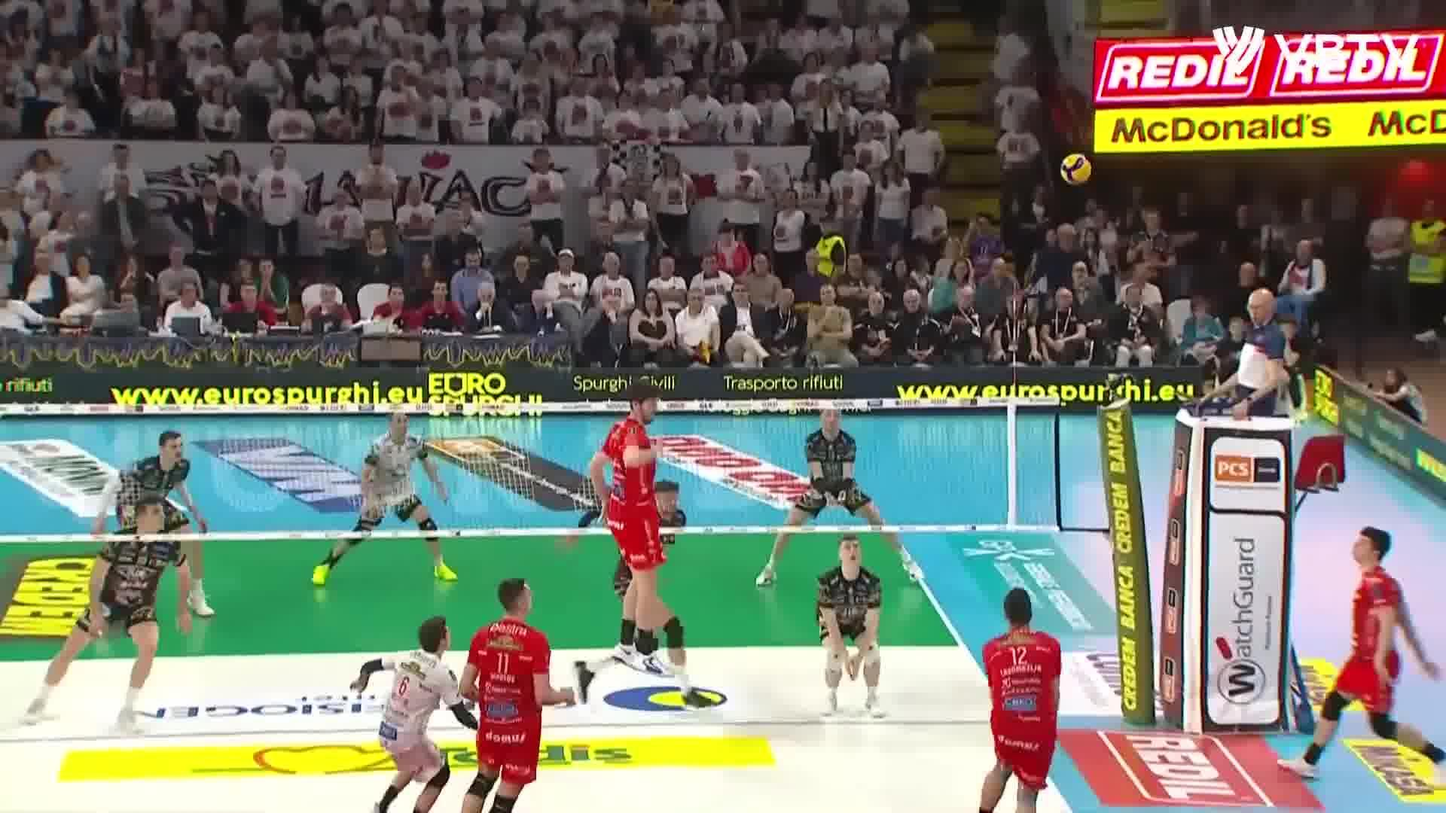balls: (1051, 148, 1100, 195)
